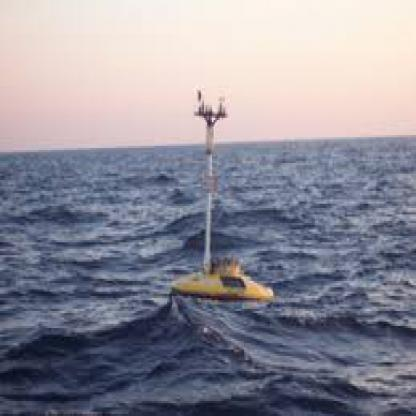buoy: (165, 78, 278, 317)
